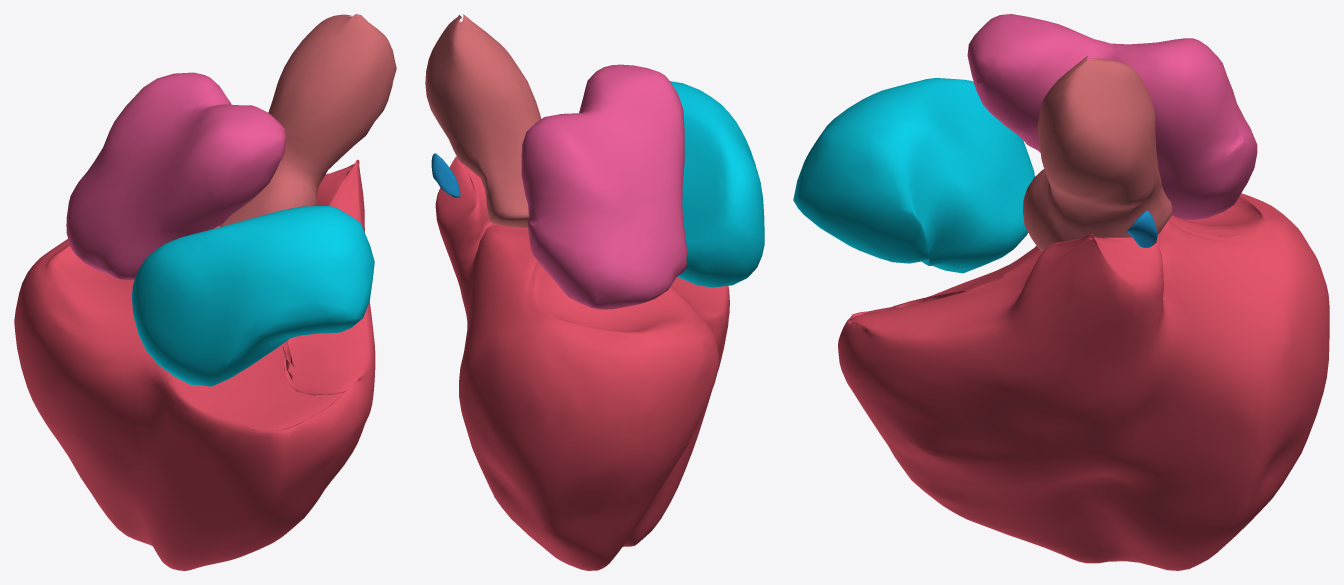
Rendered from frame_30.glb.
3 views of the same model, side by side, from view 1: azimuth 30°, elevation 25°; view 2: azimuth 150°, elevation 25°; view 3: azimuth 270°, elevation 25° (orthographic). The views are drawn at different scales.
Visible parts, largest first — view 1: Renderer Node; view 2: Renderer Node; view 3: Renderer Node.
Part boxes in pixels (x1=…): Renderer Node: x1=14, y1=14, x2=396, y2=570; Renderer Node: x1=425, y1=14, x2=764, y2=570; Renderer Node: x1=793, y1=14, x2=1329, y2=570.
Size of the model in its own units: 100 by 154 by 124.
